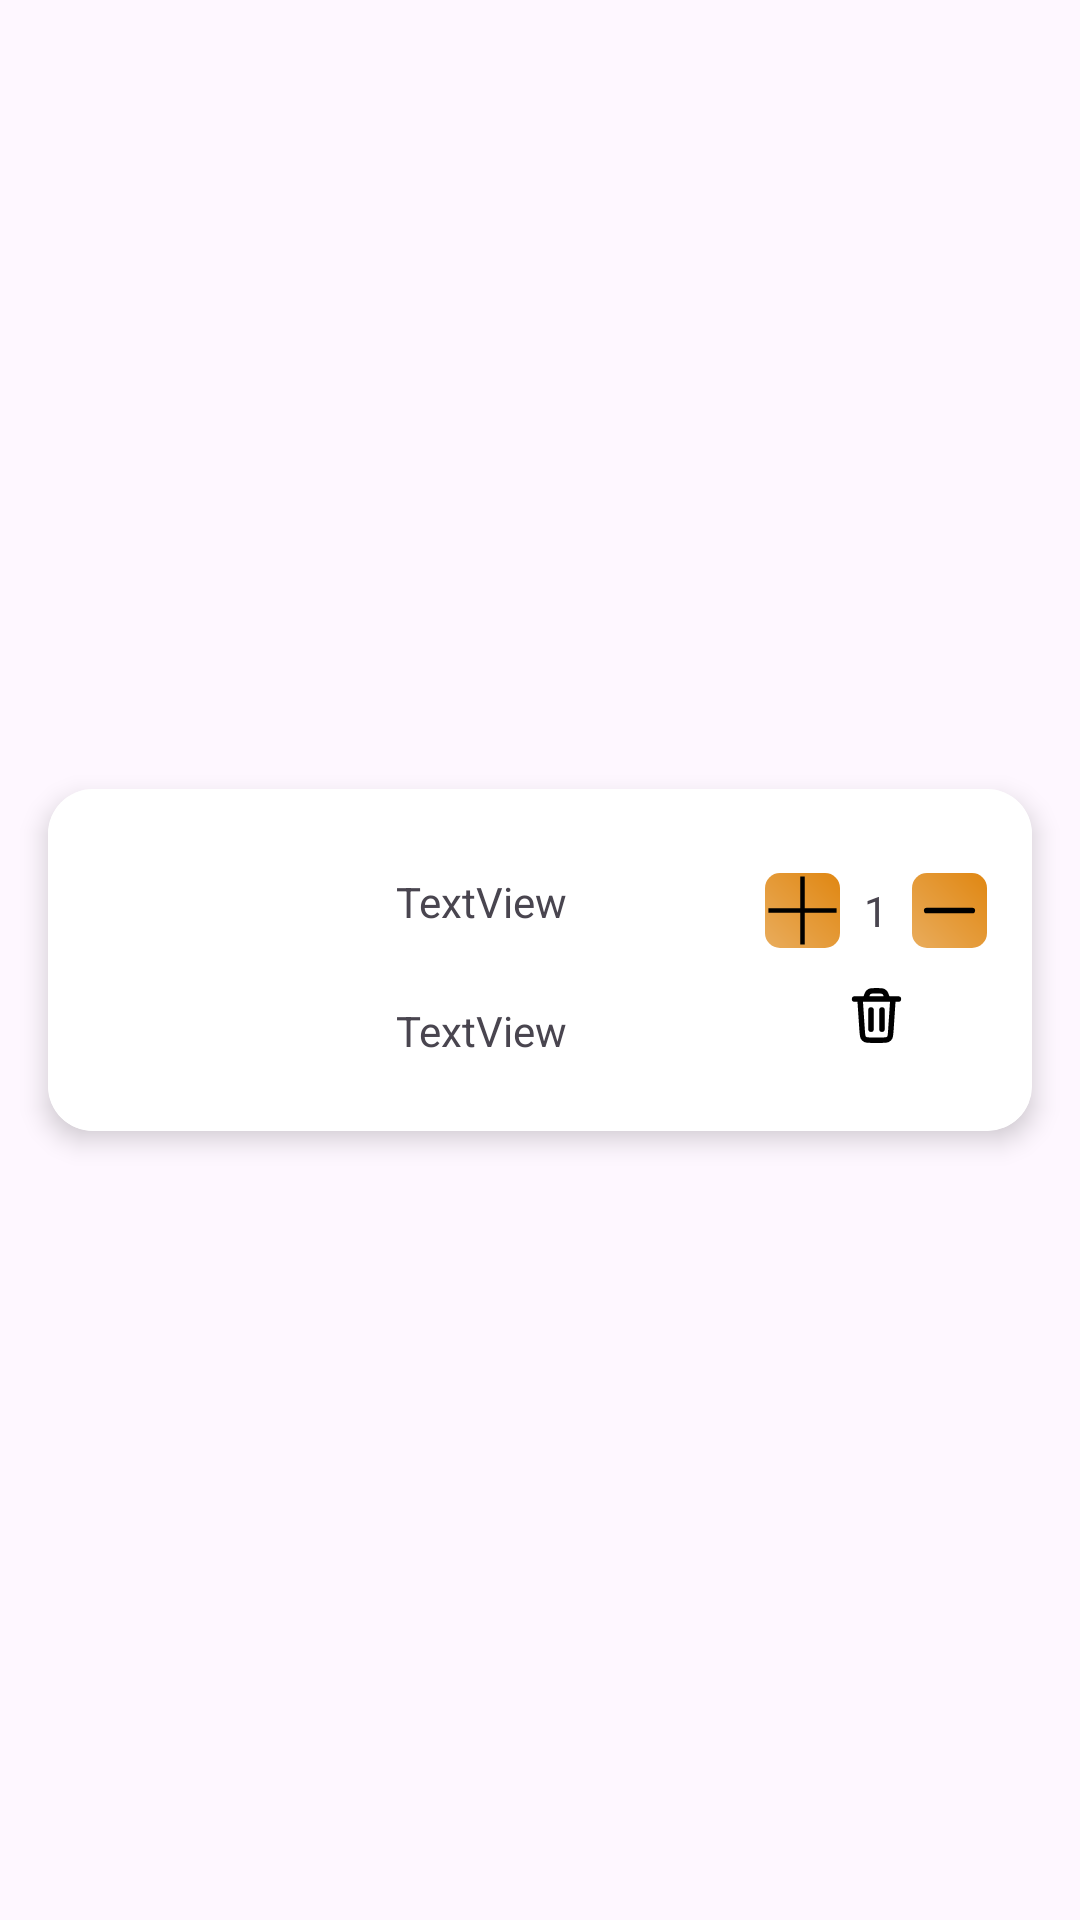

Icons on this 1080w x 1920h Android screen, each with its box as (x1, y1, x2, y2):
minus: (912, 873, 987, 948)
plus: (765, 873, 840, 948)
trash: (851, 988, 901, 1043)
